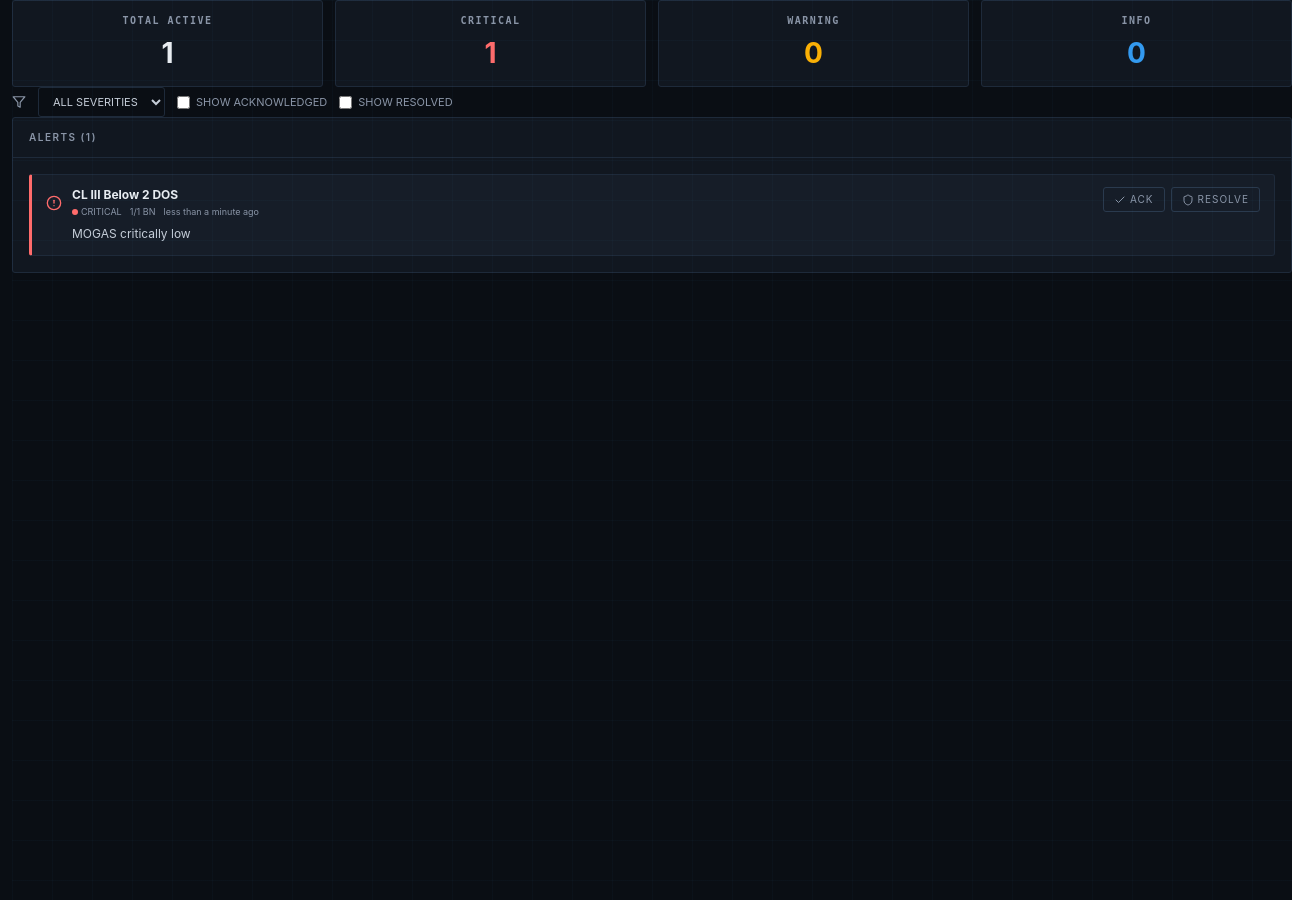
Test: AlertsTab › filters by severity when dropdown changes
The image size is (1292, 900).
Expected: the text "CL III Below 2 DOS" is shown, top-left (72, 187), bottom-right (178, 202)
Note: Change filter to INFO (no unack/unresolved INFO alerts)
Select "INFO" in the dropdown showing "ALL SEVERITIES" at (102, 102), box top-left (38, 87), bottom-right (165, 117)
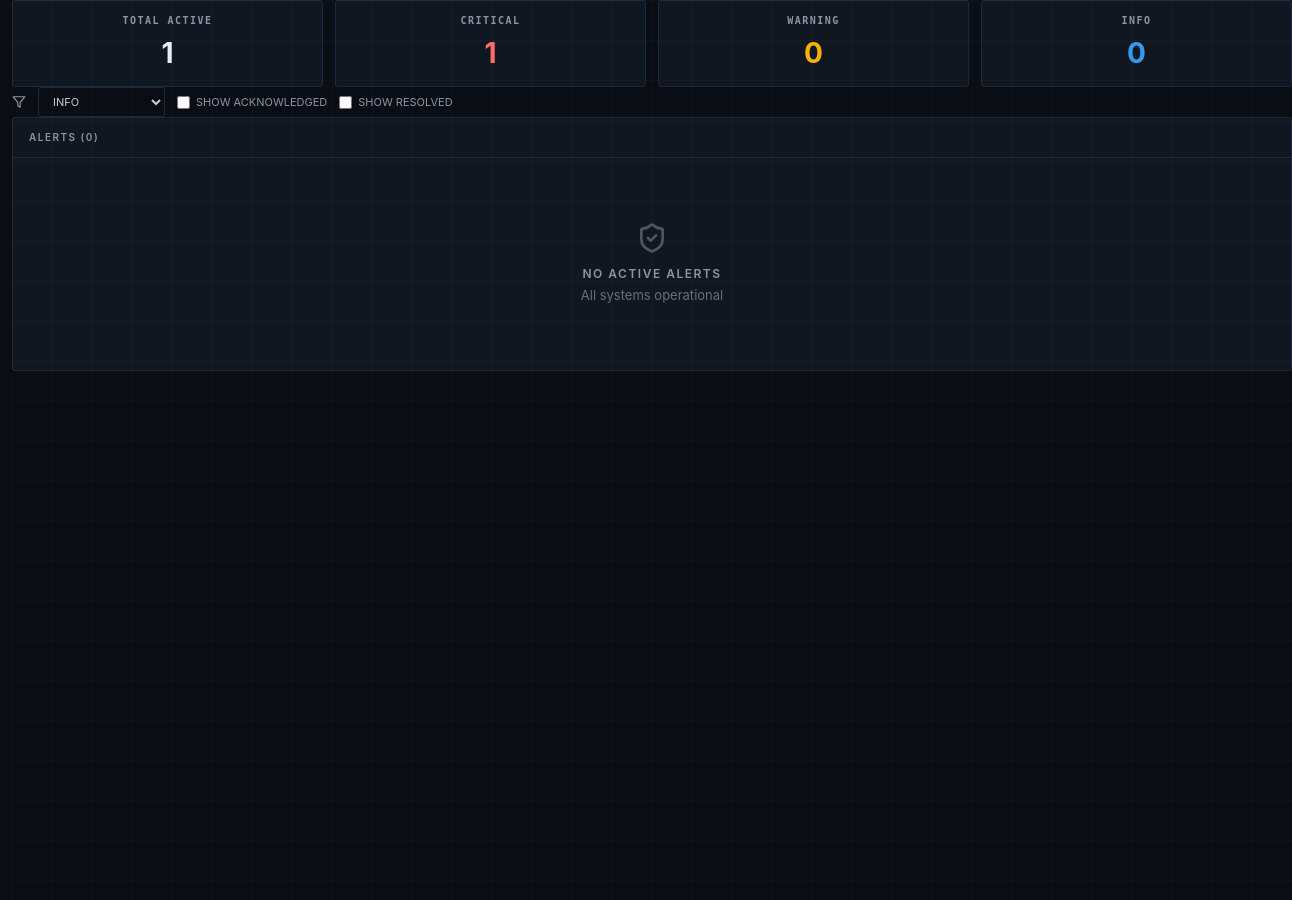
Result: the text "CL III Below 2 DOS" is gone
